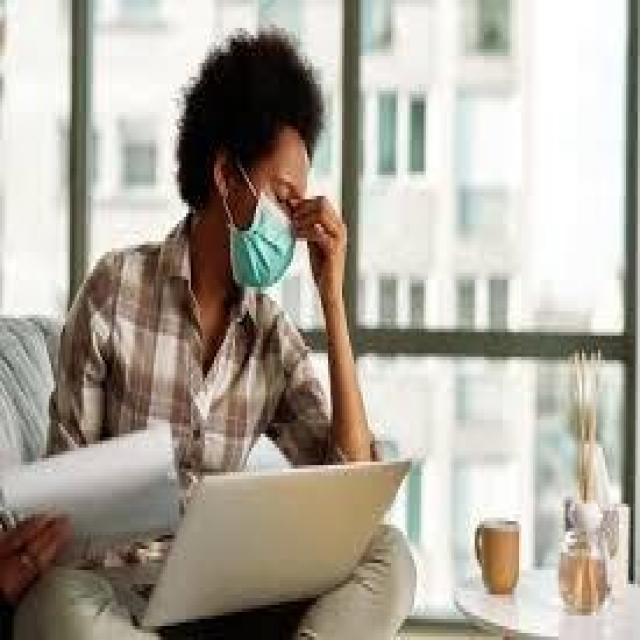person: (24, 14, 408, 556)
